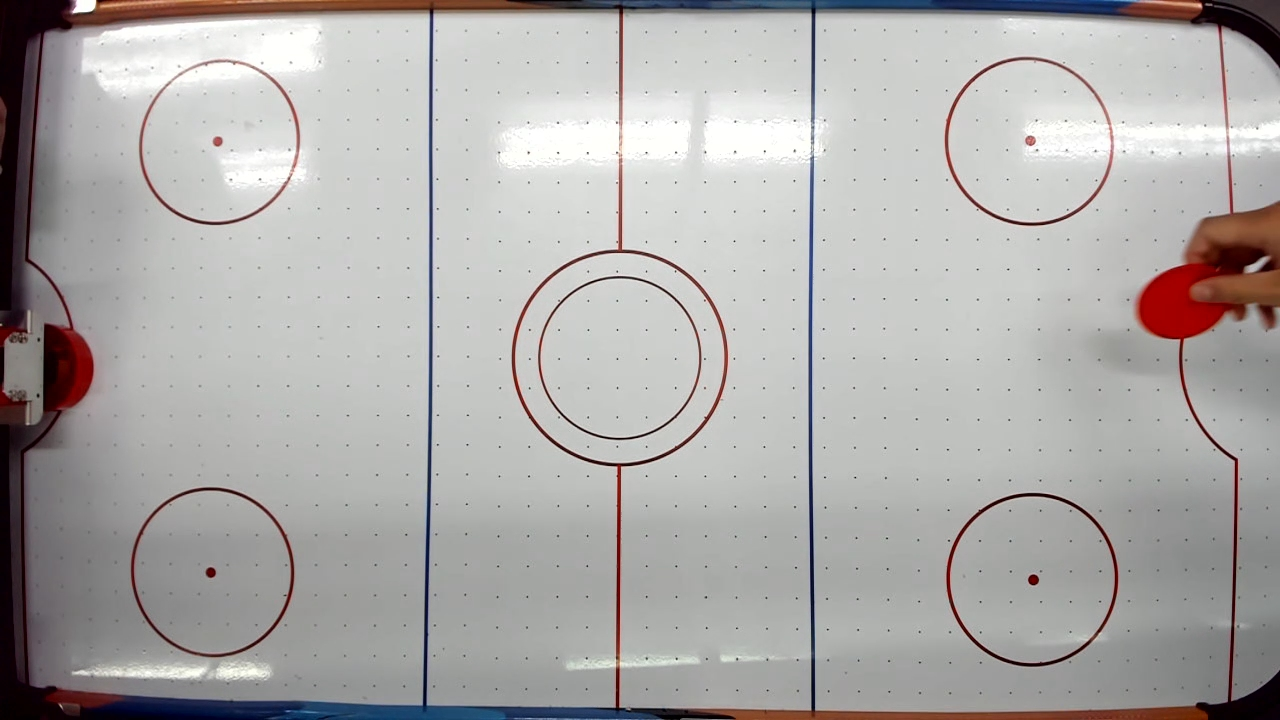ball: (1136, 258, 1228, 350)
